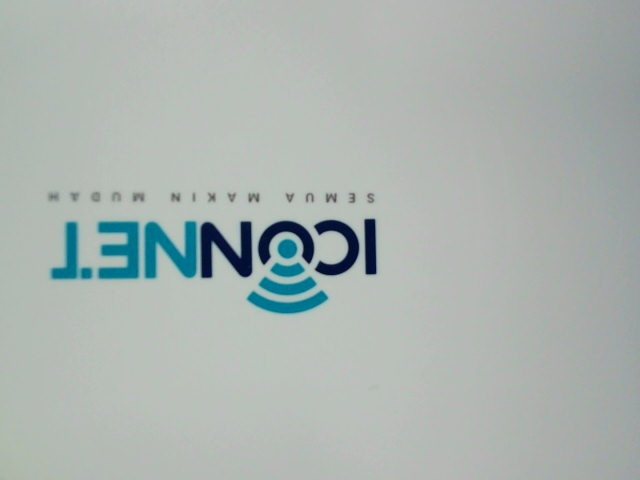BM_ICONNET: (34, 179, 400, 324)
